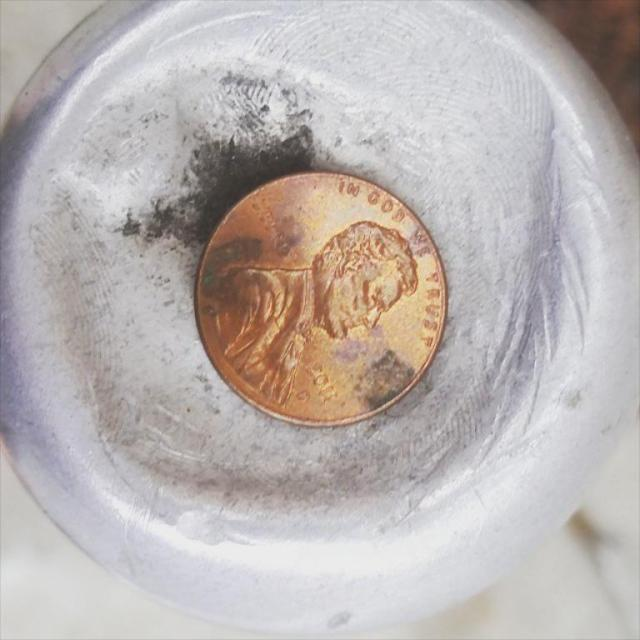Coin: (192, 169, 450, 428)
